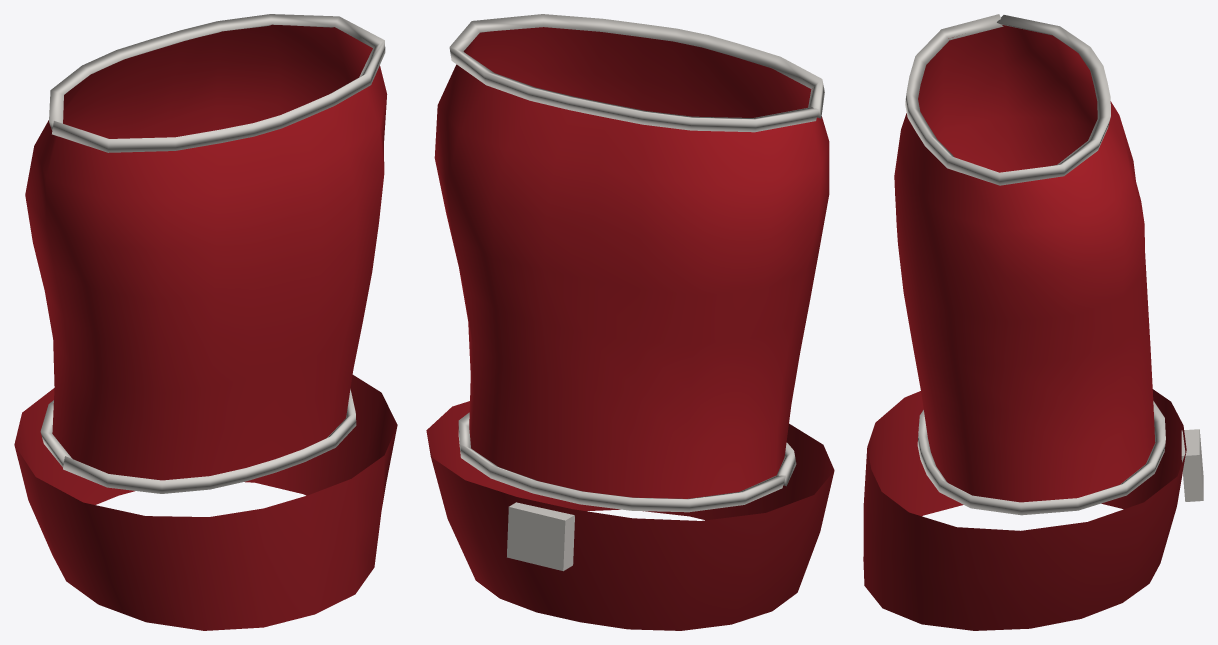
Rendered from santa_shirt.glb.
3 renders of one model, left to right at view 1: azimuth 30°, elevation 25°; view 2: azimuth 150°, elevation 25°; view 3: azimuth 270°, elevation 25°, orthographic. The views are drawn at different scales.
Visible parts, largest first — view 1: santa_shirt_chest; view 2: santa_shirt_chest; view 3: santa_shirt_chest.
Part boxes in pixels (<box>): santa_shirt_chest: <box>14,14,397,630</box>; santa_shirt_chest: <box>426,14,834,630</box>; santa_shirt_chest: <box>863,14,1203,630</box>.
Size of the model in its own units: 0.3841 by 0.5245 by 0.3341.
